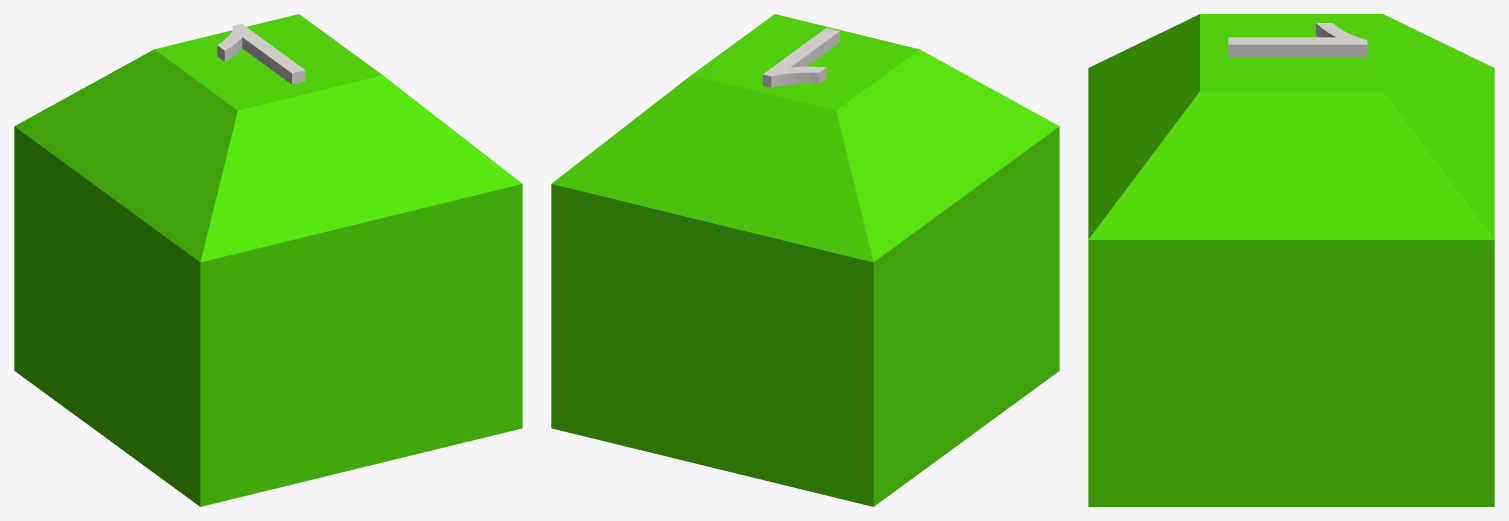
Rendered from house1.dae.
3 views of the same model, side by side, from view 1: azimuth 30°, elevation 25°; view 2: azimuth 150°, elevation 25°; view 3: azimuth 270°, elevation 25° (orthographic). The views are drawn at different scales.
Parts seen in each view (by area): view 1: Cube; view 2: Cube; view 3: Cube.
Part boxes in pixels (<box>): Cube: <box>14,14,522,506</box>; Cube: <box>551,14,1059,506</box>; Cube: <box>1088,14,1494,506</box>.
Bounding box in the file's own units: 2 × 2 × 2.07.
